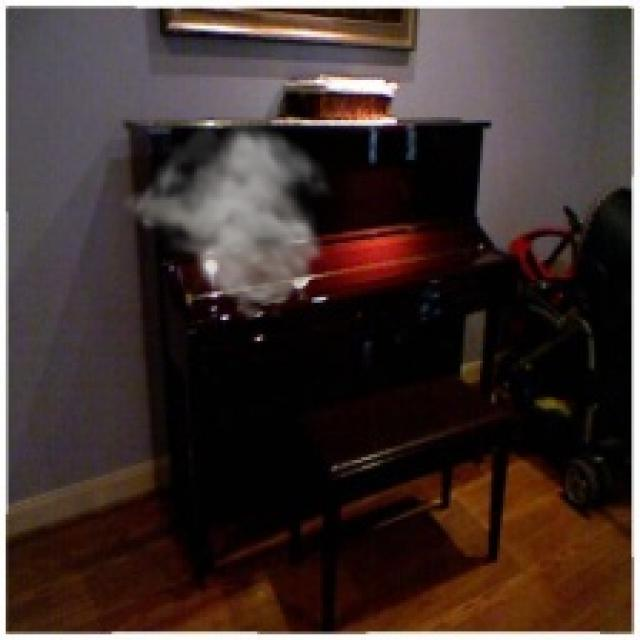smoke: (117, 117, 343, 323)
